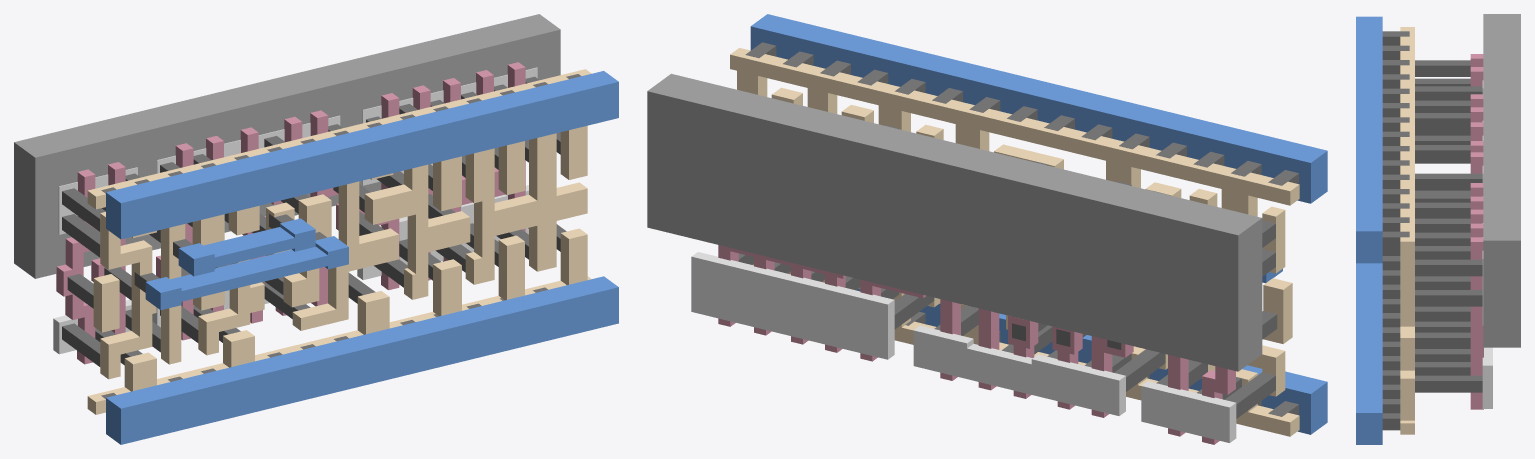
File: sky130_fd_sc_hd__dlxtn_4.gds.gltf
The picture shows the model from 3 angles, left to right: view 1: azimuth 30°, elevation 25°; view 2: azimuth 150°, elevation 25°; view 3: azimuth 270°, elevation 25°; orthographic projection. The views are drawn at different scales.
Visible parts, largest first — view 1: sky130_fd_sc_hd__dlxtn_4_met1, sky130_fd_sc_hd__dlxtn_4_li1, sky130_fd_sc_hd__dlxtn_4_nwell, sky130_fd_sc_hd__dlxtn_4_licon, sky130_fd_sc_hd__dlxtn_4_poly, sky130_fd_sc_hd__dlxtn_4_diff, sky130_fd_sc_hd__dlxtn_4_mcon; view 2: sky130_fd_sc_hd__dlxtn_4_nwell, sky130_fd_sc_hd__dlxtn_4_diff, sky130_fd_sc_hd__dlxtn_4_li1, sky130_fd_sc_hd__dlxtn_4_met1, sky130_fd_sc_hd__dlxtn_4_poly, sky130_fd_sc_hd__dlxtn_4_licon, sky130_fd_sc_hd__dlxtn_4_mcon; view 3: sky130_fd_sc_hd__dlxtn_4_licon, sky130_fd_sc_hd__dlxtn_4_nwell, sky130_fd_sc_hd__dlxtn_4_met1, sky130_fd_sc_hd__dlxtn_4_mcon, sky130_fd_sc_hd__dlxtn_4_li1, sky130_fd_sc_hd__dlxtn_4_poly, sky130_fd_sc_hd__dlxtn_4_diff.
Part boxes in pixels (x1=…): sky130_fd_sc_hd__dlxtn_4_met1: x1=106, y1=71, x2=618, y2=444; sky130_fd_sc_hd__dlxtn_4_li1: x1=87, y1=69, x2=591, y2=414; sky130_fd_sc_hd__dlxtn_4_nwell: x1=14, y1=14, x2=560, y2=278; sky130_fd_sc_hd__dlxtn_4_licon: x1=62, y1=76, x2=566, y2=366; sky130_fd_sc_hd__dlxtn_4_poly: x1=56, y1=62, x2=525, y2=364; sky130_fd_sc_hd__dlxtn_4_diff: x1=53, y1=67, x2=537, y2=354; sky130_fd_sc_hd__dlxtn_4_mcon: x1=101, y1=74, x2=581, y2=398; sky130_fd_sc_hd__dlxtn_4_nwell: x1=647, y1=73, x2=1262, y2=371; sky130_fd_sc_hd__dlxtn_4_diff: x1=691, y1=252, x2=1236, y2=442; sky130_fd_sc_hd__dlxtn_4_li1: x1=730, y1=48, x2=1299, y2=436; sky130_fd_sc_hd__dlxtn_4_met1: x1=750, y1=14, x2=1327, y2=434; sky130_fd_sc_hd__dlxtn_4_poly: x1=718, y1=245, x2=1235, y2=444; sky130_fd_sc_hd__dlxtn_4_licon: x1=738, y1=125, x2=1277, y2=418; sky130_fd_sc_hd__dlxtn_4_mcon: x1=745, y1=42, x2=1298, y2=416; sky130_fd_sc_hd__dlxtn_4_licon: x1=1415, y1=60, x2=1482, y2=392; sky130_fd_sc_hd__dlxtn_4_nwell: x1=1483, y1=14, x2=1520, y2=347; sky130_fd_sc_hd__dlxtn_4_met1: x1=1356, y1=16, x2=1382, y2=444; sky130_fd_sc_hd__dlxtn_4_mcon: x1=1382, y1=31, x2=1409, y2=430; sky130_fd_sc_hd__dlxtn_4_li1: x1=1400, y1=27, x2=1414, y2=434; sky130_fd_sc_hd__dlxtn_4_poly: x1=1470, y1=54, x2=1483, y2=409; sky130_fd_sc_hd__dlxtn_4_diff: x1=1482, y1=80, x2=1492, y2=408.
Bounding box in the file's own units: 7.28 × 3.2 × 2.24.
